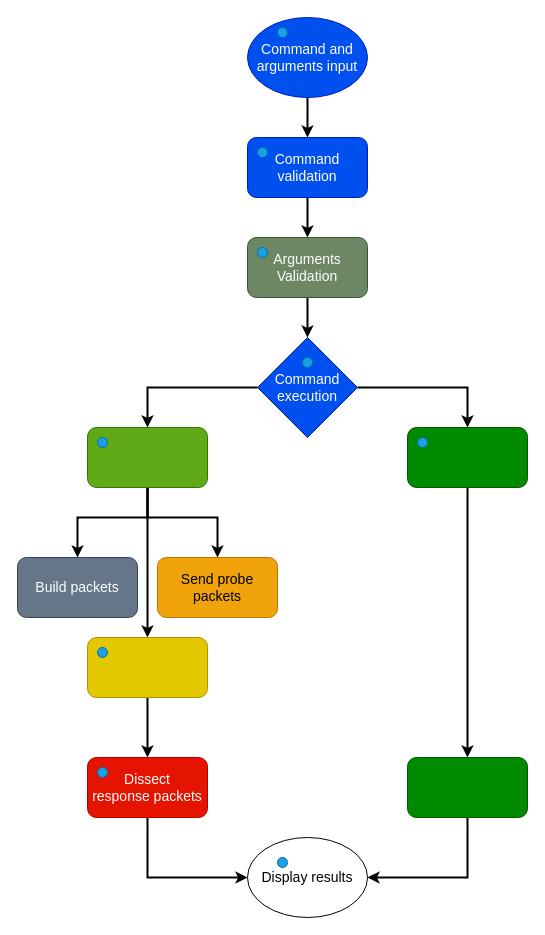
Image size: 545x935. Some labels were removed from this diagram. Each missing label, with the centre of its shape:
"Create connection via socket" belongs at point (467, 457).
"Get information from the target" belongs at point (467, 787).
"Prepare command parameters" belongs at point (147, 457).
"Sniff response packets" belongs at point (147, 667).
